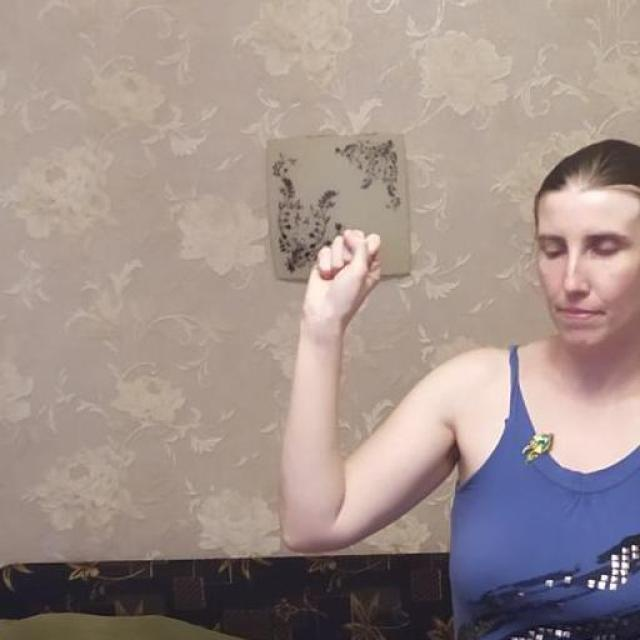hand: (300, 226, 382, 332)
